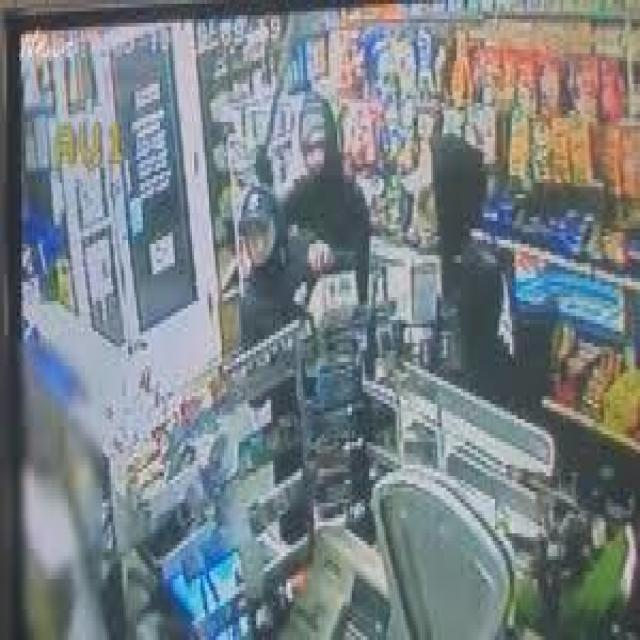weapon: (254, 49, 292, 164)
